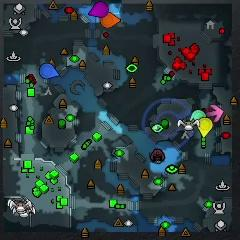p1: (41, 62, 59, 80)
p2: (190, 109, 205, 122)
p3: (88, 2, 107, 17)
p4: (196, 117, 213, 137)
p5: (100, 12, 121, 28)
x1: (207, 105, 224, 120)
